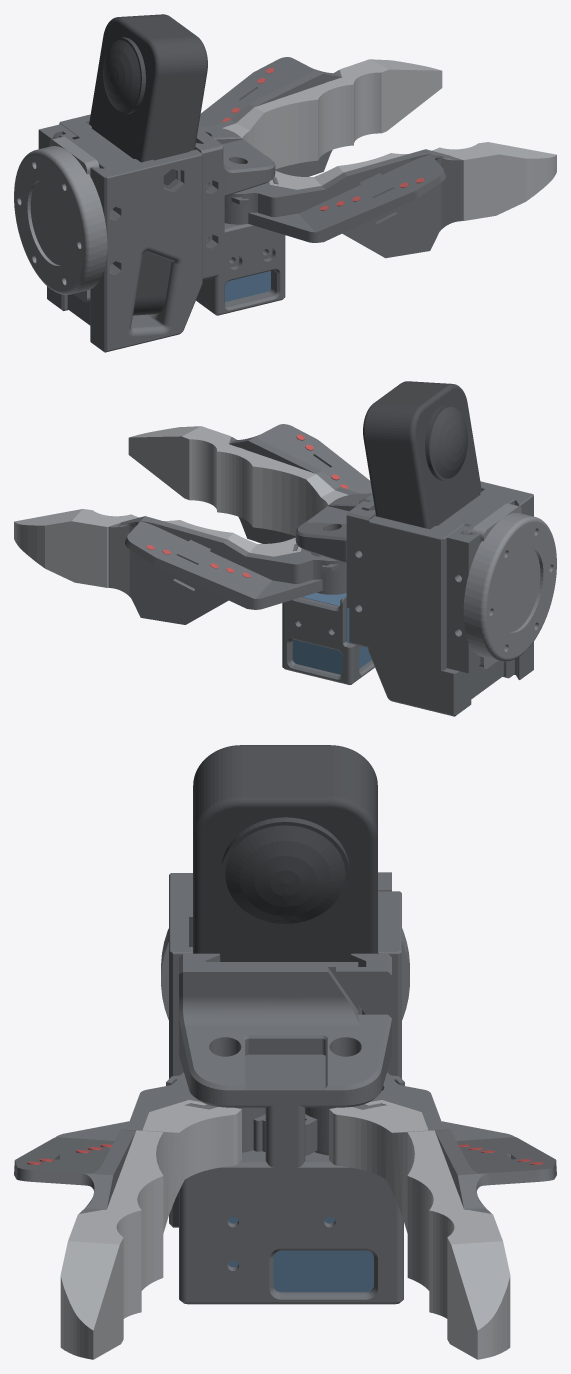
Rendered from chopstick_openarm.glb.
The picture shows the model from 3 angles, top to bottom: view 1: azimuth 30°, elevation 25°; view 2: azimuth 150°, elevation 25°; view 3: azimuth 270°, elevation 25°; orthographic projection. The views are drawn at different scales.
Parts seen in each view (by area): view 1: x5_frame, insta360_x5_envelope, jaw_right, tip_tpu_left, openarm_adapter, chopstick_base_sa, tip_tpu_right, jaw_left_sa, servo_envelope, x5_clip_b; view 2: x5_frame, jaw_left_sa, insta360_x5_envelope, tip_tpu_right, openarm_adapter, chopstick_base_sa, tip_tpu_left, jaw_right, x5_clip_b, chopstick_clip_sa, servo_envelope; view 3: chopstick_base_sa, insta360_x5_envelope, tip_tpu_right, tip_tpu_left, jaw_left_sa, jaw_right, x5_frame, servo_envelope, chopstick_clip_sa, openarm_adapter.
Boxes of the visible parts, x1,y1,x2,y2 form: x5_frame: (47, 114, 202, 352); insta360_x5_envelope: (89, 14, 207, 315); jaw_right: (224, 149, 462, 258); tip_tpu_left: (222, 59, 442, 169); openarm_adapter: (14, 136, 107, 301); chopstick_base_sa: (195, 126, 285, 315); tip_tpu_right: (269, 142, 556, 220); jaw_left_sa: (198, 57, 341, 176); servo_envelope: (225, 271, 270, 301); x5_clip_b: (38, 124, 77, 148); x5_frame: (368, 481, 533, 716); jaw_left_sa: (108, 516, 346, 624); insta360_x5_envelope: (363, 381, 481, 529); tip_tpu_right: (128, 426, 348, 536); openarm_adapter: (463, 503, 556, 668); chopstick_base_sa: (282, 493, 374, 684); tip_tpu_left: (14, 509, 301, 587); jaw_right: (228, 424, 372, 543); x5_clip_b: (446, 525, 480, 673); chopstick_clip_sa: (346, 501, 375, 647); servo_envelope: (292, 592, 371, 674); chopstick_base_sa: (179, 953, 403, 1304); insta360_x5_envelope: (193, 745, 377, 961); tip_tpu_right: (60, 1100, 241, 1359); tip_tpu_left: (329, 1100, 510, 1359); jaw_left_sa: (305, 1072, 556, 1213); jaw_right: (14, 1072, 265, 1213); x5_frame: (169, 873, 401, 1227); servo_envelope: (228, 1217, 373, 1292); chopstick_clip_sa: (336, 953, 391, 1075); openarm_adapter: (161, 928, 409, 1019).
Bounding box in the file's own units: 0.2166 × 0.1302 × 0.1352.
